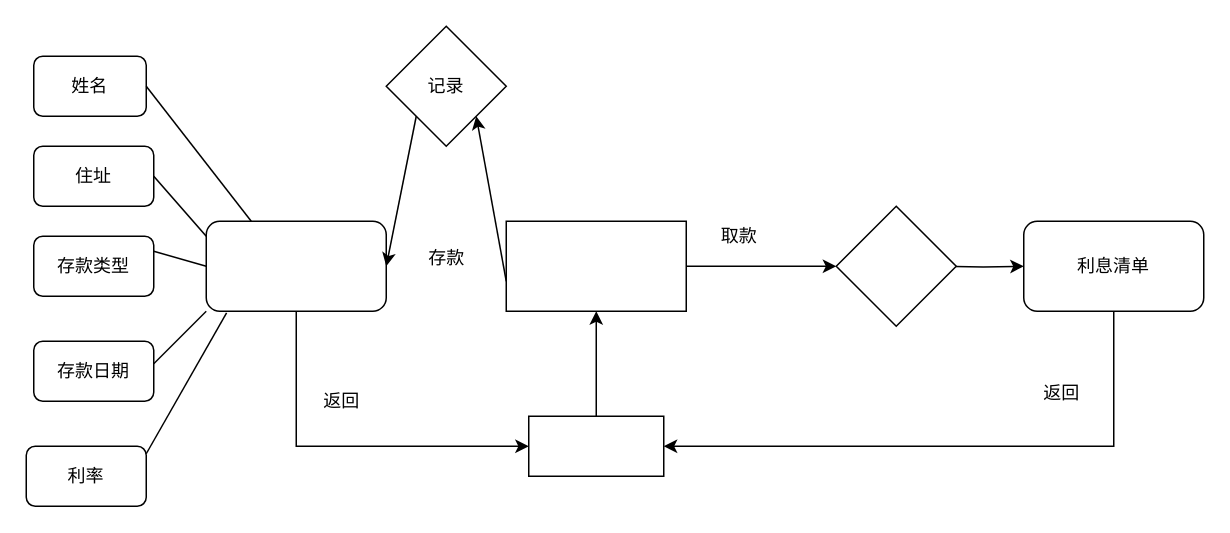
This 1230x533 diagram has some shape labels left out. Here are the shapes that lost their labels. From the top down, the centre of each, then its label:
At (295,265): "存款单".
At (595,265): "储蓄系统".
At (895,265): "计算利息".
At (595,445): "储户".
